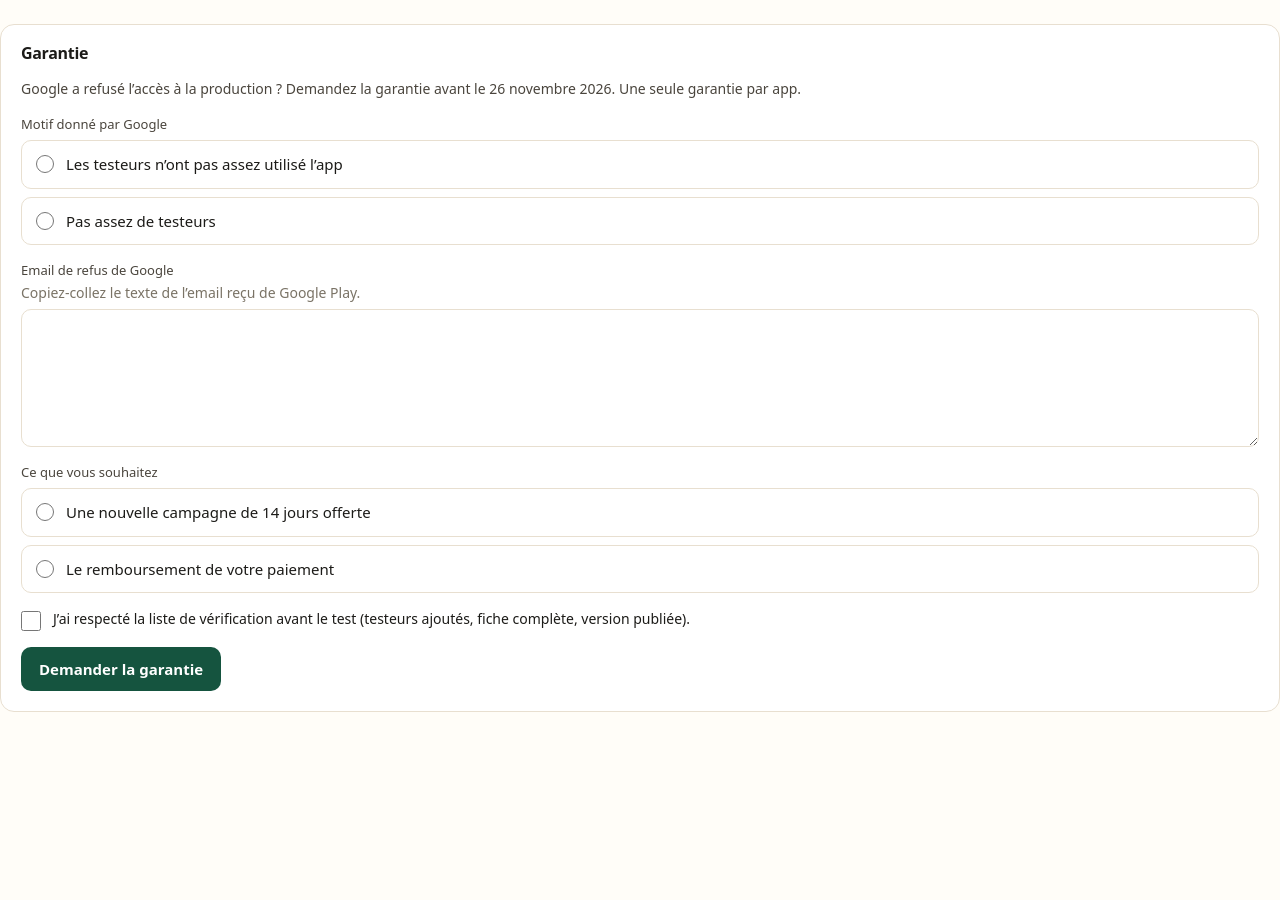
Test case: Garantie côté développeur (US-30) › demande la garantie après un refus de Google
Check: the text "avant le 26 novembre 2026" is shown, box [21,79,801,98]
Click the button "Demander la garantie": (121, 669) [21,647,221,691]
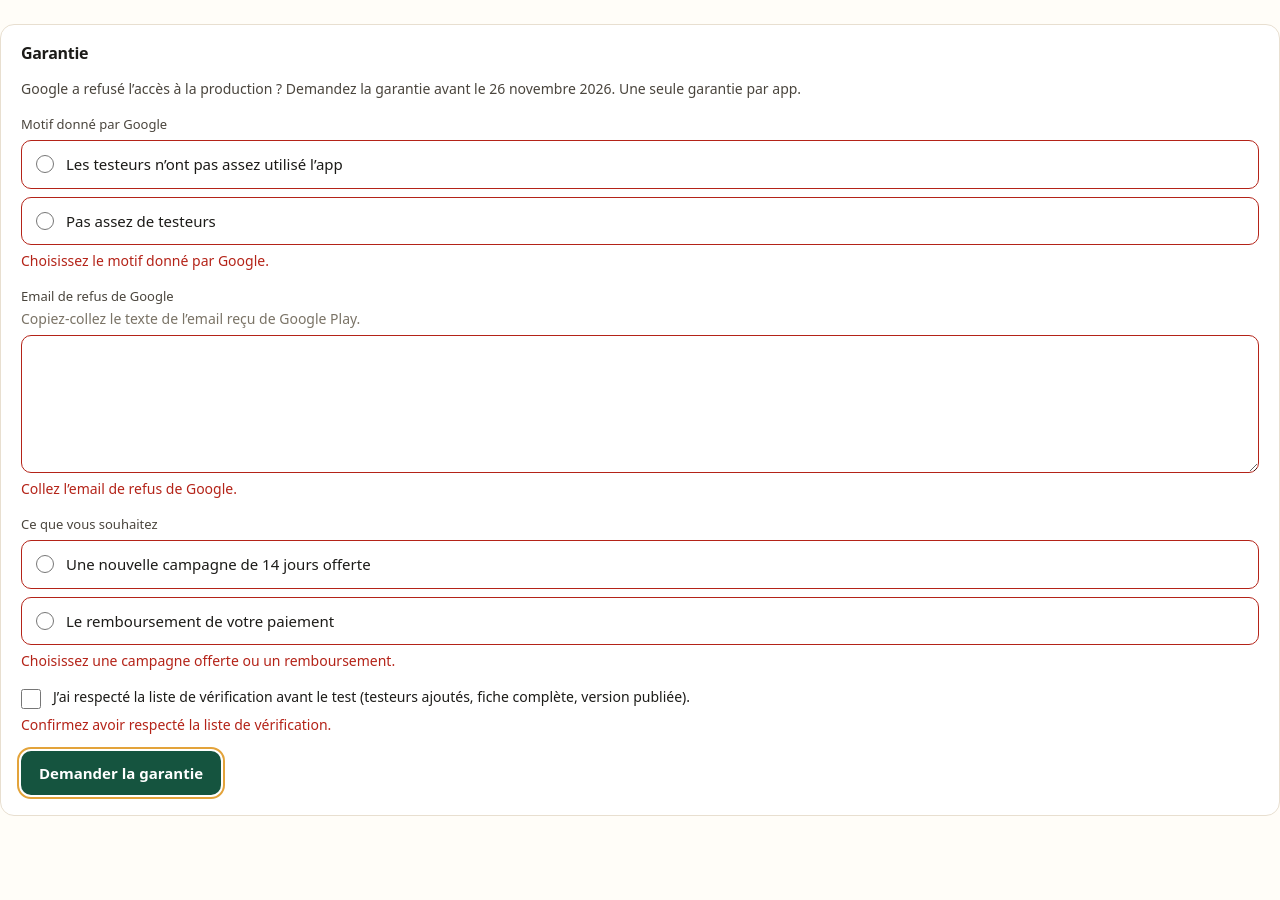
Check: the text "Collez l’email de refus de Google." is shown, box [21,479,237,498]
Click the radio button labelled "Les testeurs n’ont pas assez utilisé l’app": (45, 164) [36,155,54,173]
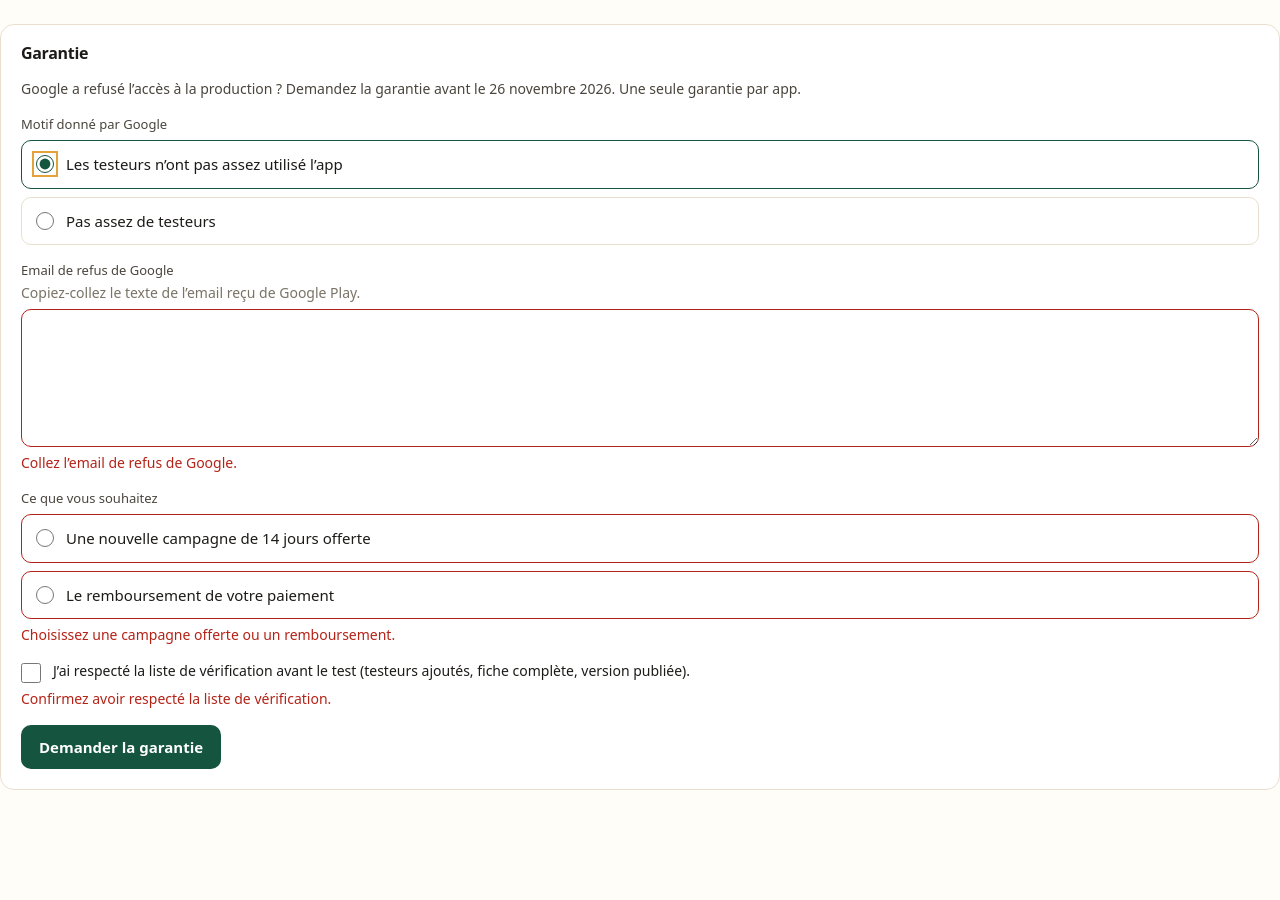
In the text box labelled "Email de refus de Google": (640, 378) [21,309,1259,447], type "Votre demande d’accès à la production a été refusée : engagement des testeurs insuffisant."
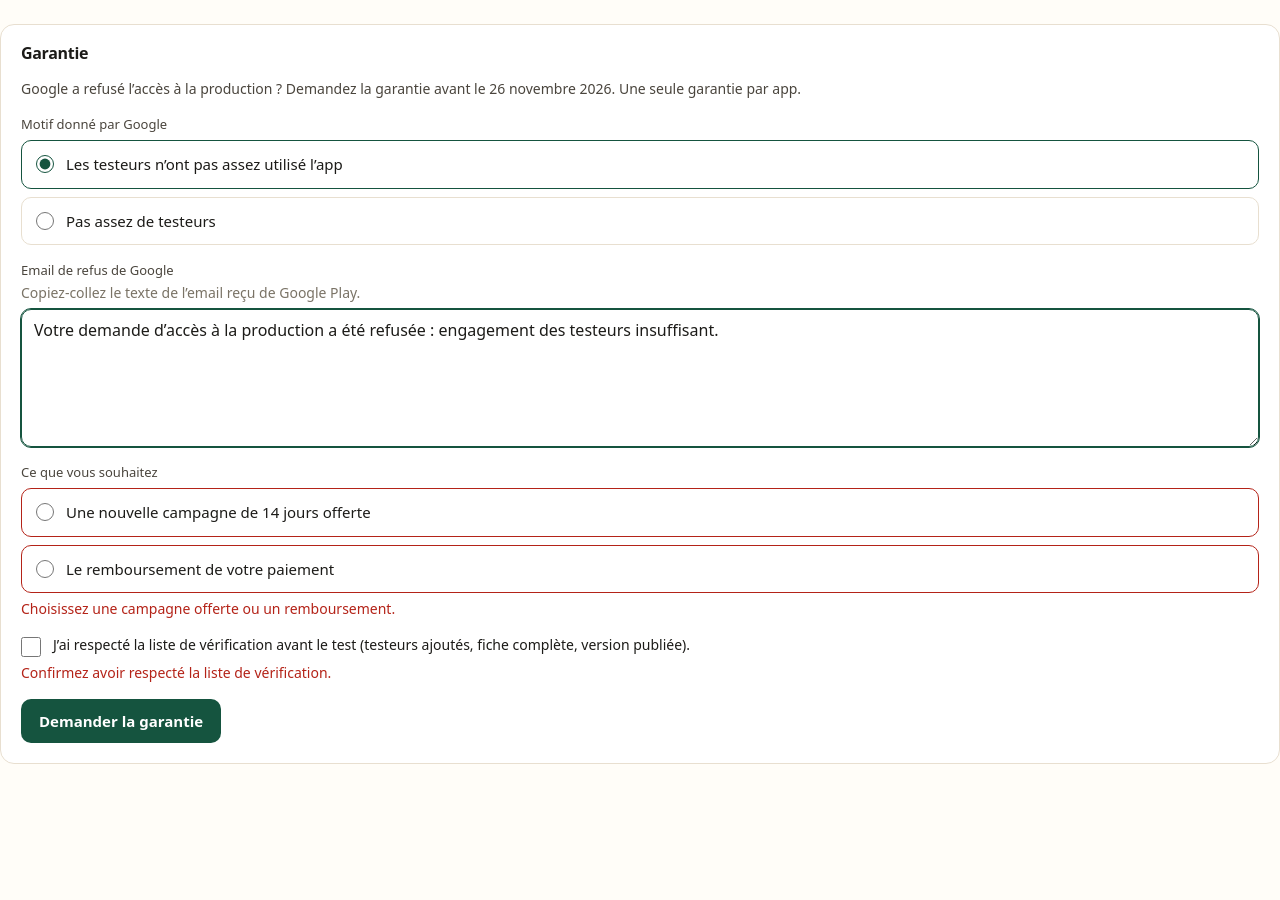
Click the radio button labelled "Une nouvelle campagne de 14 jours offerte": (45, 512) [36,503,54,521]
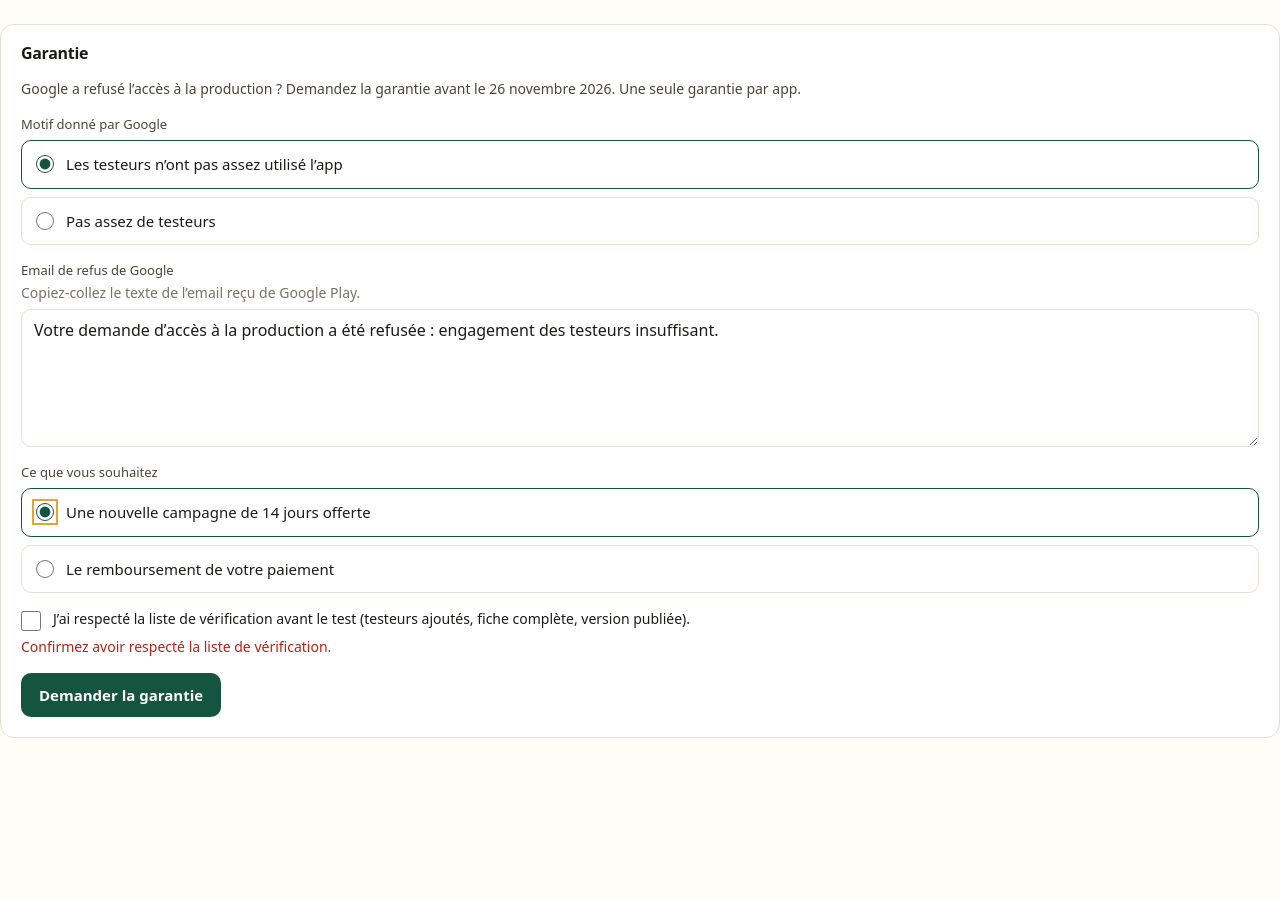
Click the checkbox: (31, 621) [21,611,41,631]
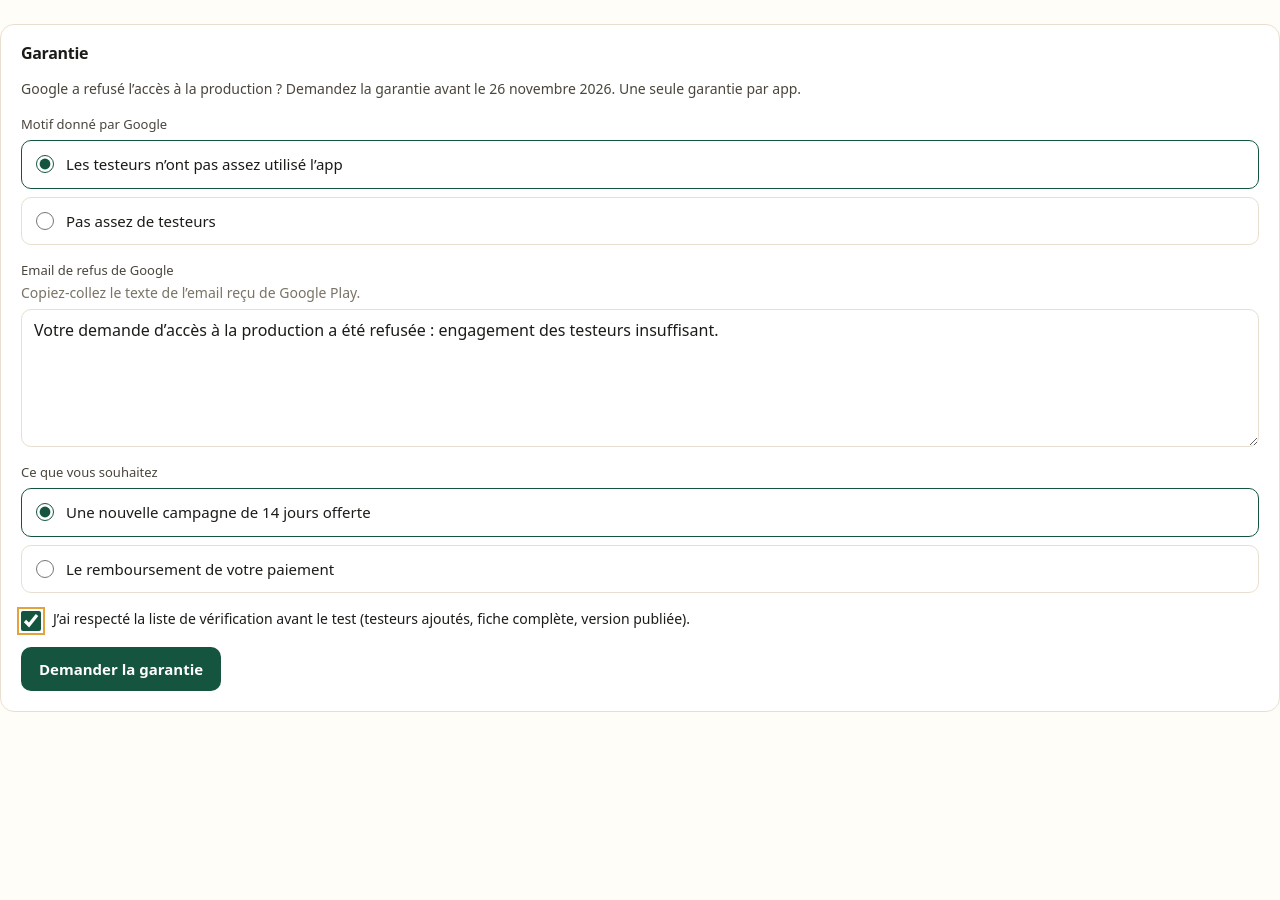
Click the button "Demander la garantie": (121, 669) [21,647,221,691]
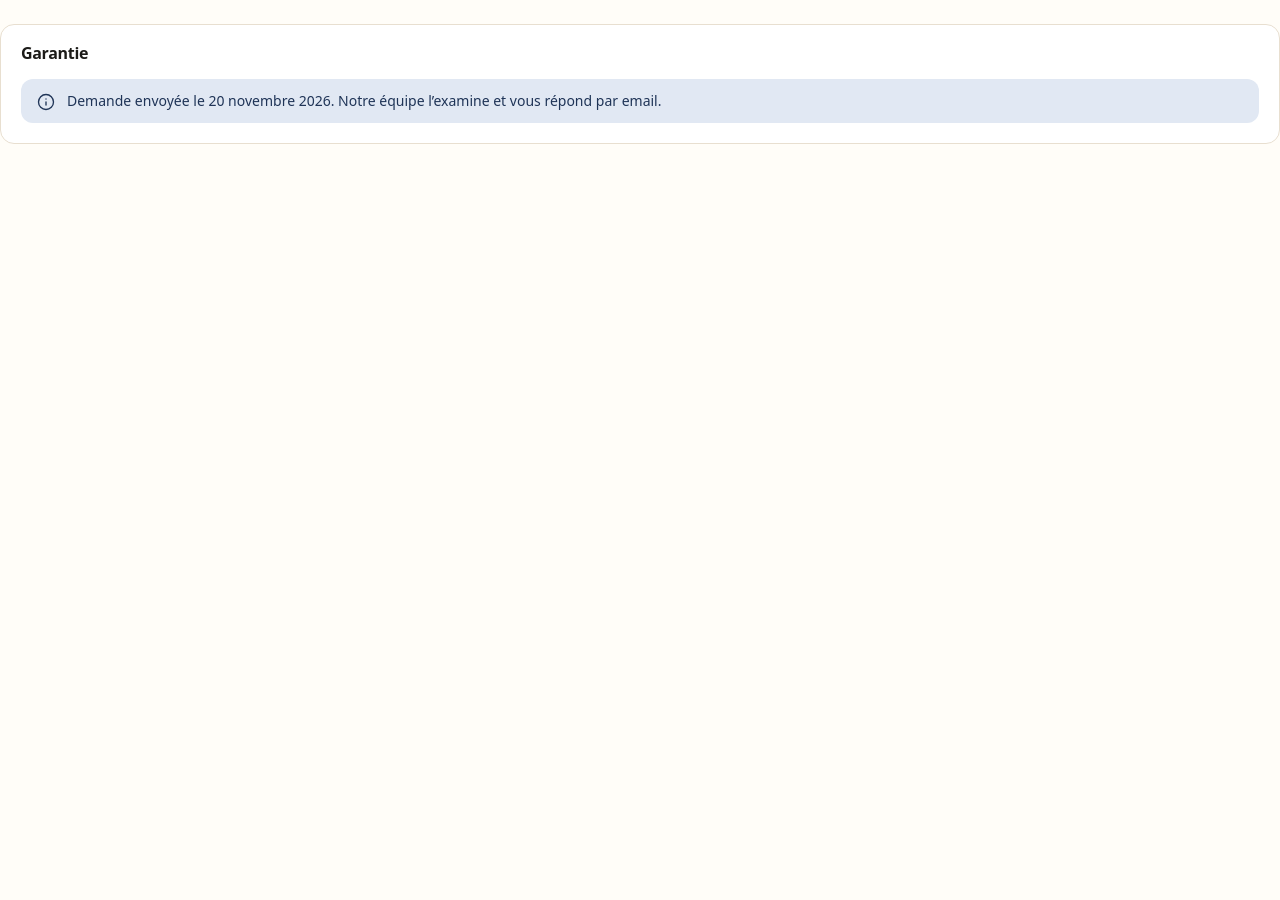
Check: the text "Notre équipe l’examine" is shown, box [331,91,662,110]
